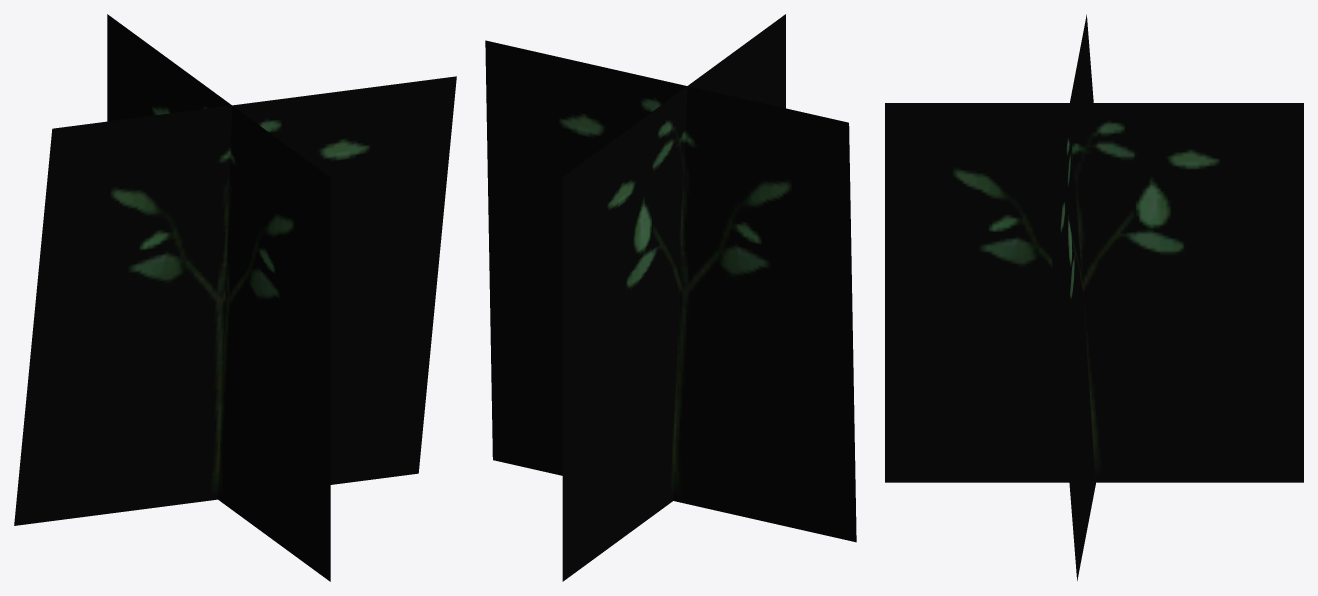
File: leaf_forestsprout_a2_l3.fbx
The picture shows the model from 3 angles, left to right: view 1: azimuth 30°, elevation 25°; view 2: azimuth 150°, elevation 25°; view 3: azimuth 270°, elevation 25°; orthographic projection. The views are drawn at different scales.
Parts seen in each view (by area): view 1: mesh_node; view 2: mesh_node; view 3: mesh_node.
Boxes of the visible parts, bbox=[...] form: mesh_node: bbox=[14, 14, 456, 581]; mesh_node: bbox=[485, 14, 856, 581]; mesh_node: bbox=[885, 14, 1303, 580].
Size of the model in its own units: 0.7531 by 0.7591 by 0.7154.
1 material, 1 textured.
